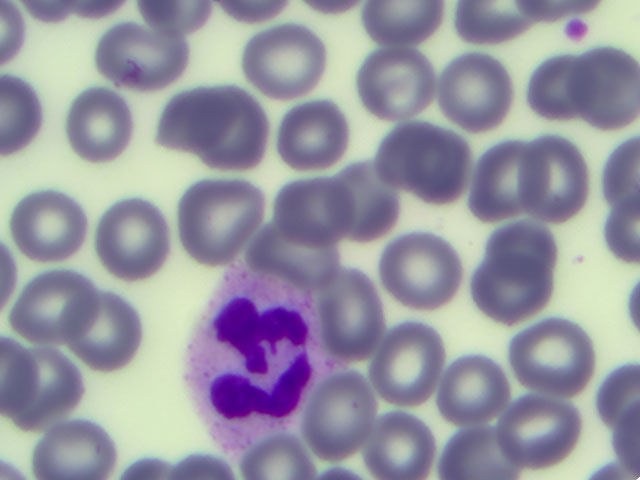Platelets: (562, 14, 591, 48)
RBC: (564, 51, 640, 128), (35, 402, 110, 480), (361, 402, 436, 480), (66, 85, 141, 162), (116, 21, 191, 98), (155, 84, 230, 161), (192, 94, 267, 171), (183, 176, 258, 253), (98, 196, 173, 273), (9, 184, 84, 261), (14, 268, 89, 345), (65, 294, 140, 371), (6, 349, 81, 426), (301, 379, 376, 456), (371, 324, 446, 401), (311, 269, 386, 346), (251, 213, 326, 290), (276, 176, 351, 253), (328, 163, 403, 240), (278, 96, 353, 173), (245, 24, 320, 101), (361, 43, 436, 120), (440, 52, 515, 129), (365, 113, 440, 190), (407, 132, 482, 209), (467, 142, 542, 219), (519, 140, 594, 217), (488, 205, 563, 282), (471, 253, 546, 330), (383, 233, 458, 310), (438, 347, 513, 424), (508, 388, 583, 465), (513, 318, 588, 395), (515, 50, 590, 127)
WBC: (188, 269, 328, 427)
